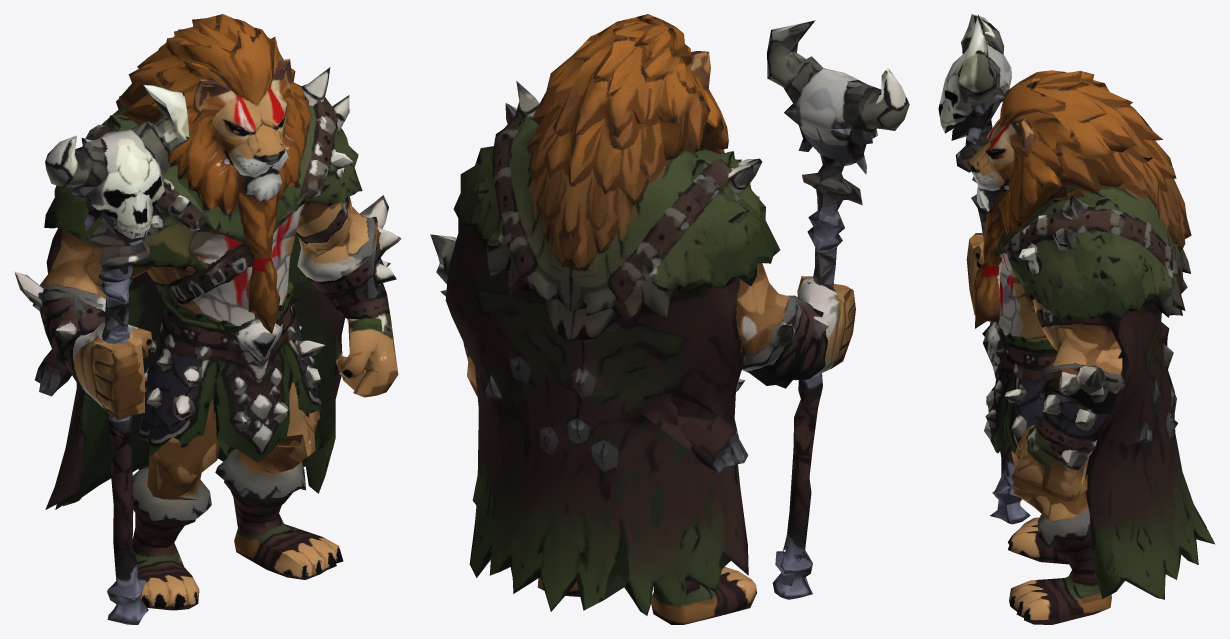
The model's file is warchief_ready.glb.
The picture shows the model from 3 angles, left to right: view 1: azimuth 30°, elevation 25°; view 2: azimuth 150°, elevation 25°; view 3: azimuth 270°, elevation 25°; orthographic projection. The views are drawn at different scales.
Parts seen in each view (by area): view 1: world; view 2: world; view 3: world.
Part boxes in pixels (x1=…): world: x1=14, y1=14, x2=401, y2=624; world: x1=430, y1=14, x2=909, y2=624; world: x1=938, y1=14, x2=1214, y2=624.
Size of the model in its own units: 0.7516 by 0.9969 by 0.4917.
Materials: 1 (1 with a texture image).
